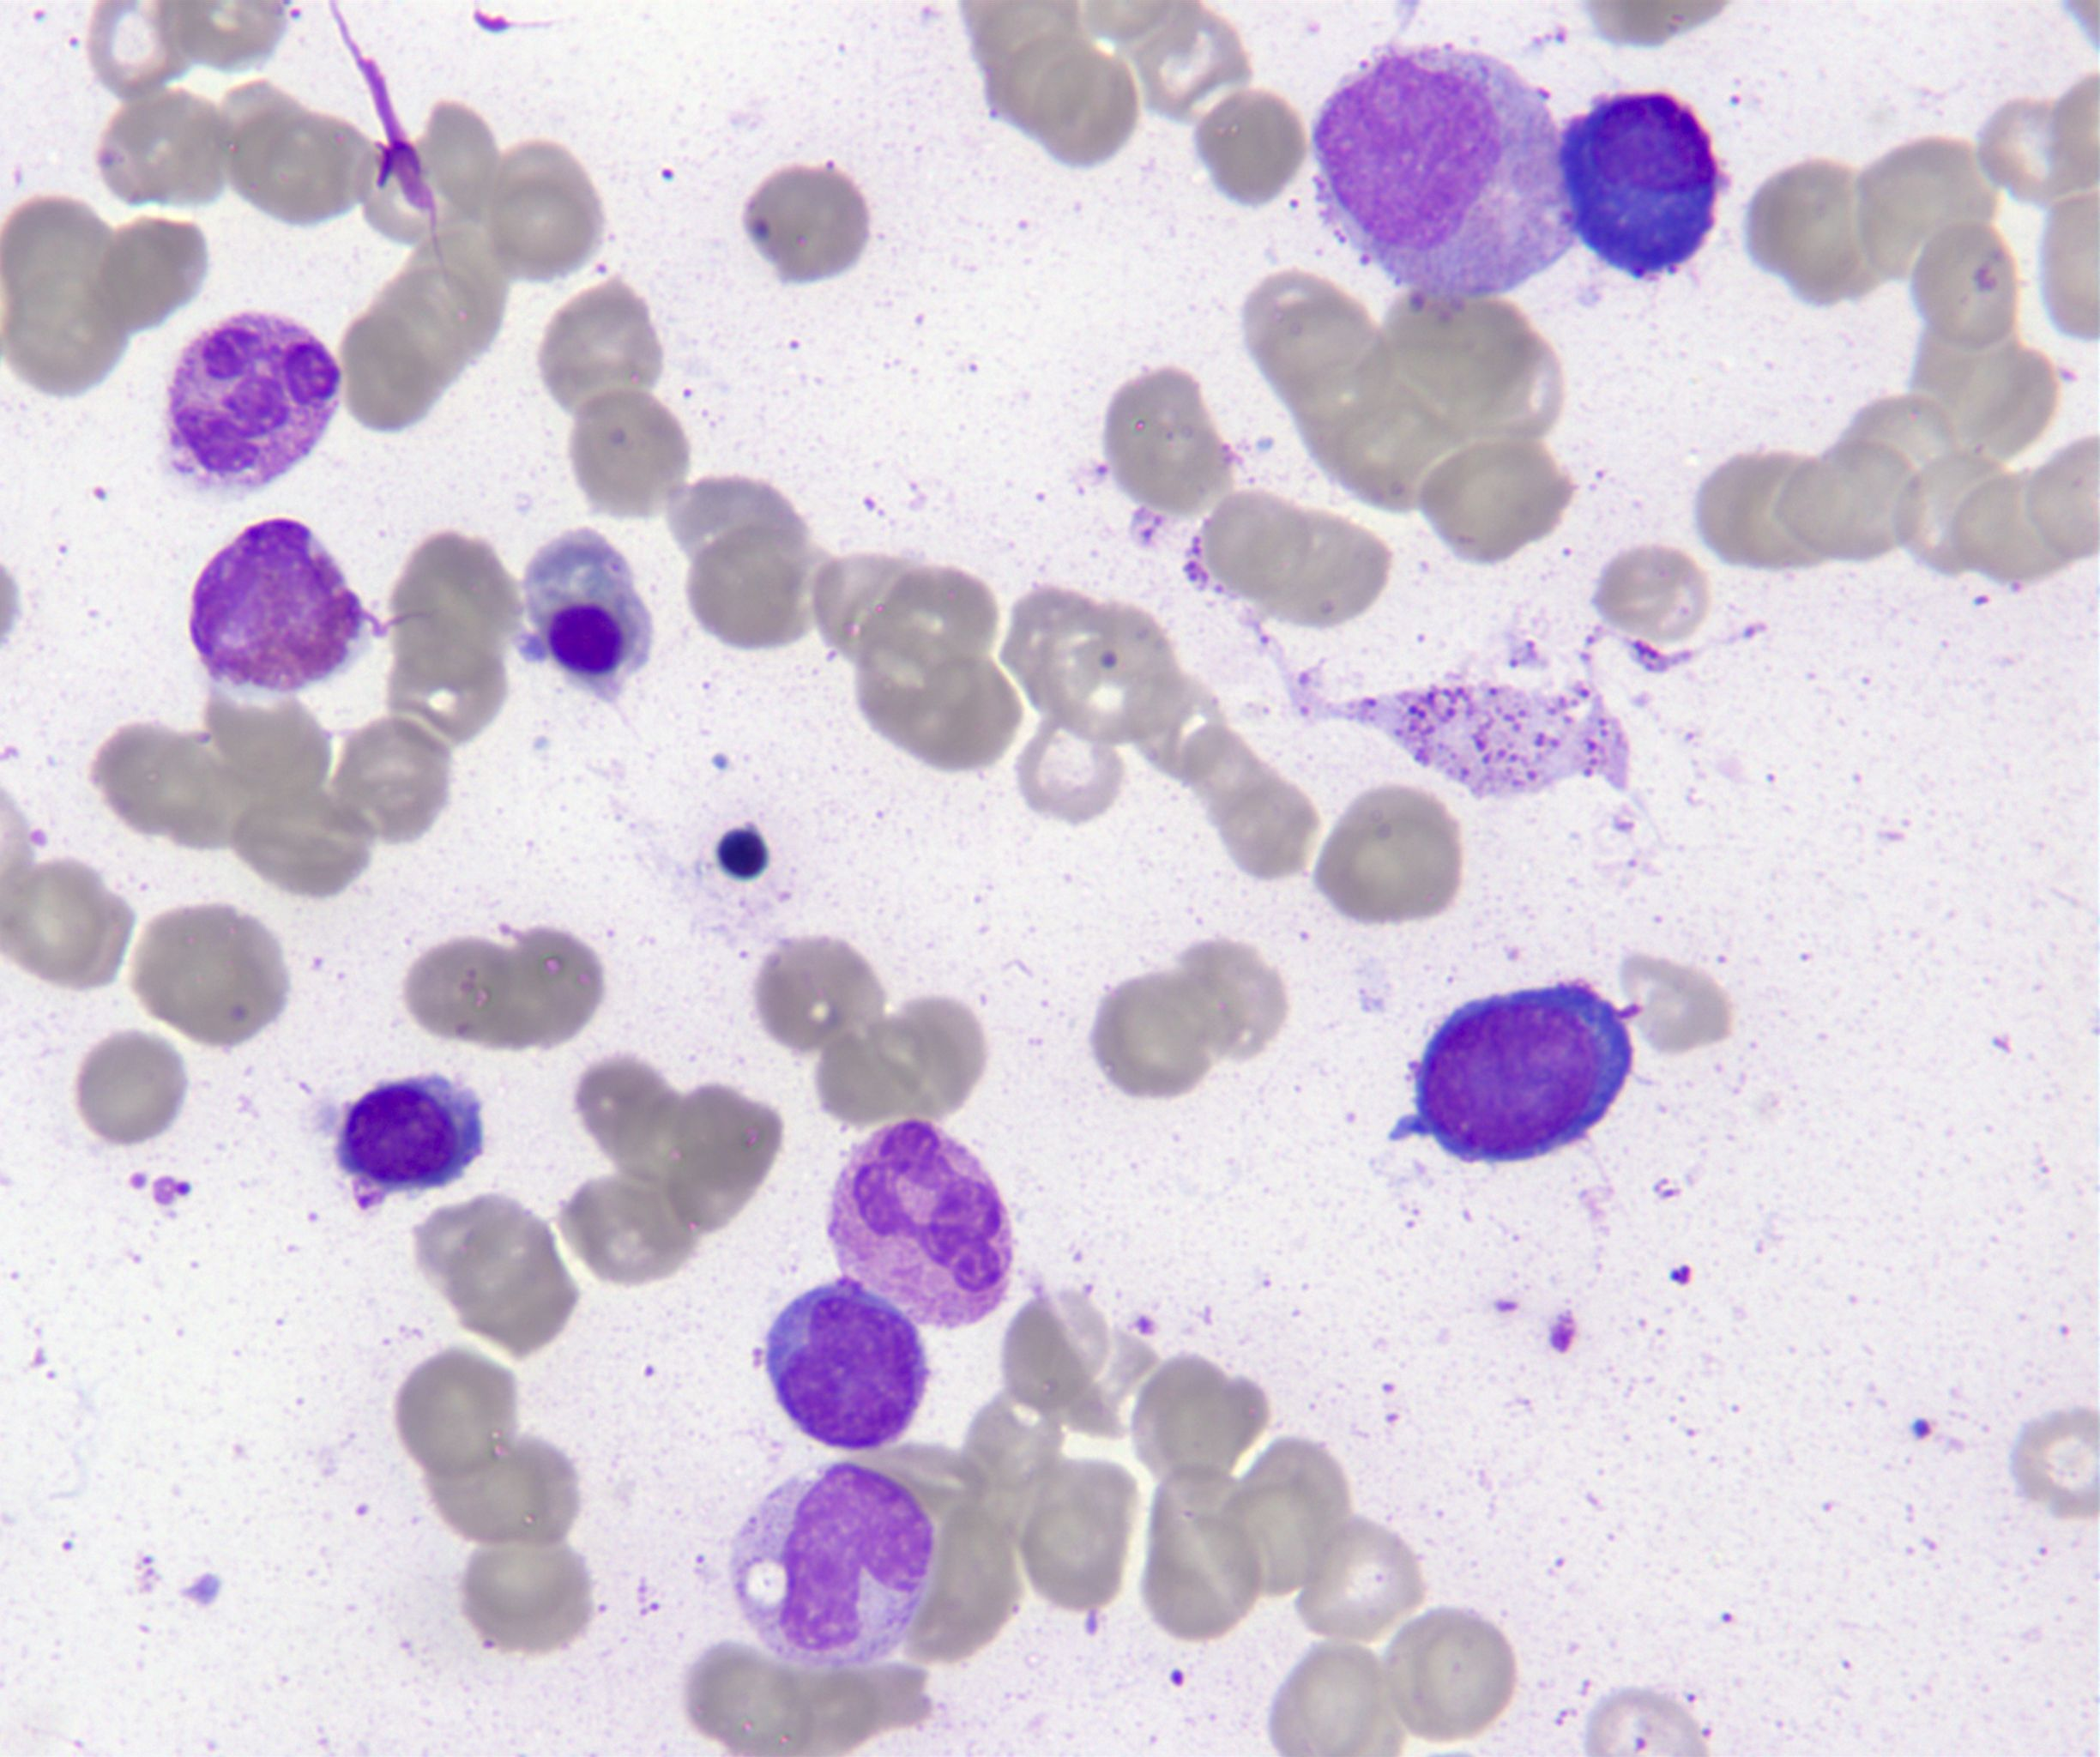22: (1415, 986, 1633, 1166)
24: (528, 529, 651, 707), (335, 1073, 483, 1190)
3: (1313, 45, 1575, 300)
42: (766, 1279, 924, 1452)
5: (731, 1464, 931, 1670)
52: (1565, 92, 1716, 281)
6: (830, 1120, 1013, 1330), (166, 311, 342, 492)
E4: (190, 518, 363, 694)
